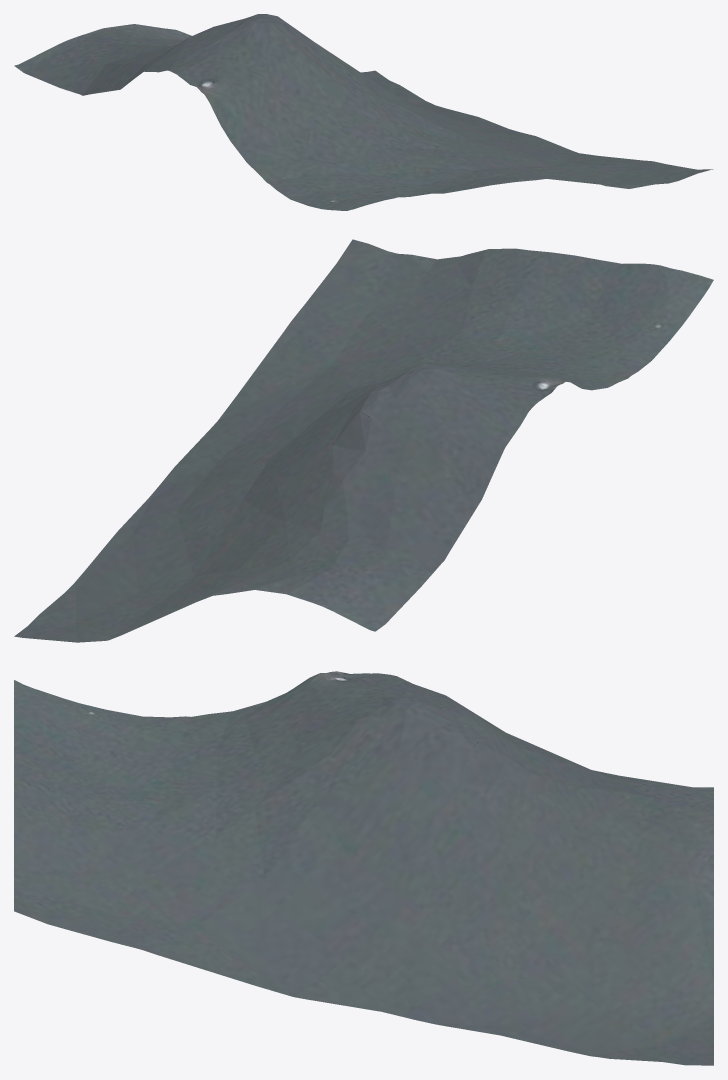
Rendered from Tile__006__005_L22_00003000.glb.
3 views of the same model, one above another, from view 1: azimuth 30°, elevation 25°; view 2: azimuth 150°, elevation 25°; view 3: azimuth 270°, elevation 25° (orthographic). The views are drawn at different scales.
Visible parts, largest first — view 1: root; view 2: root; view 3: root.
Part boxes in pixels (<box>): root: <box>14,14,713,210</box>; root: <box>14,239,713,642</box>; root: <box>14,671,713,1065</box>.
Bounding box in the file's own units: 15.44 × 9.13 × 25.06.
1 material, 1 textured.
